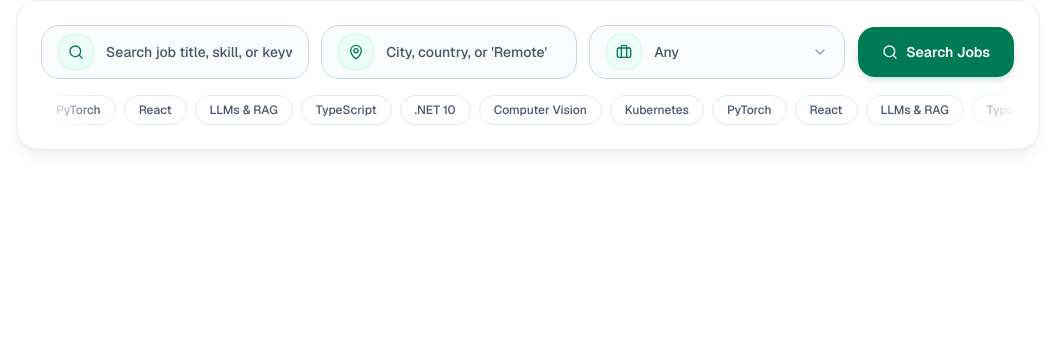
Test case: JobSearchBar Component › renders all three input sections with their accessible inputs and icons
Expected: the field labelled "job title, skill, or keyword" is shown, 106,42 -> 292,62
Expected: the field named "Filter by location" is shown, 386,42 -> 560,62
Click the dropdown named "Filter by experience level": (741, 52) 654,36 -> 828,68
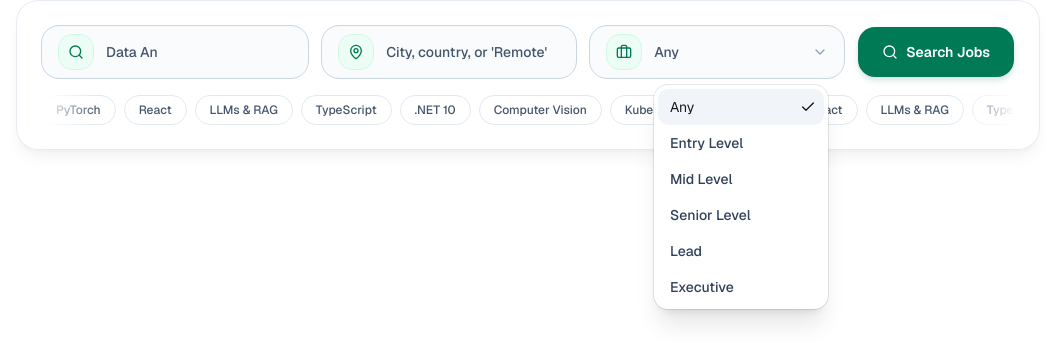
Result: the option "Any" is shown at 658,89 -> 824,125
